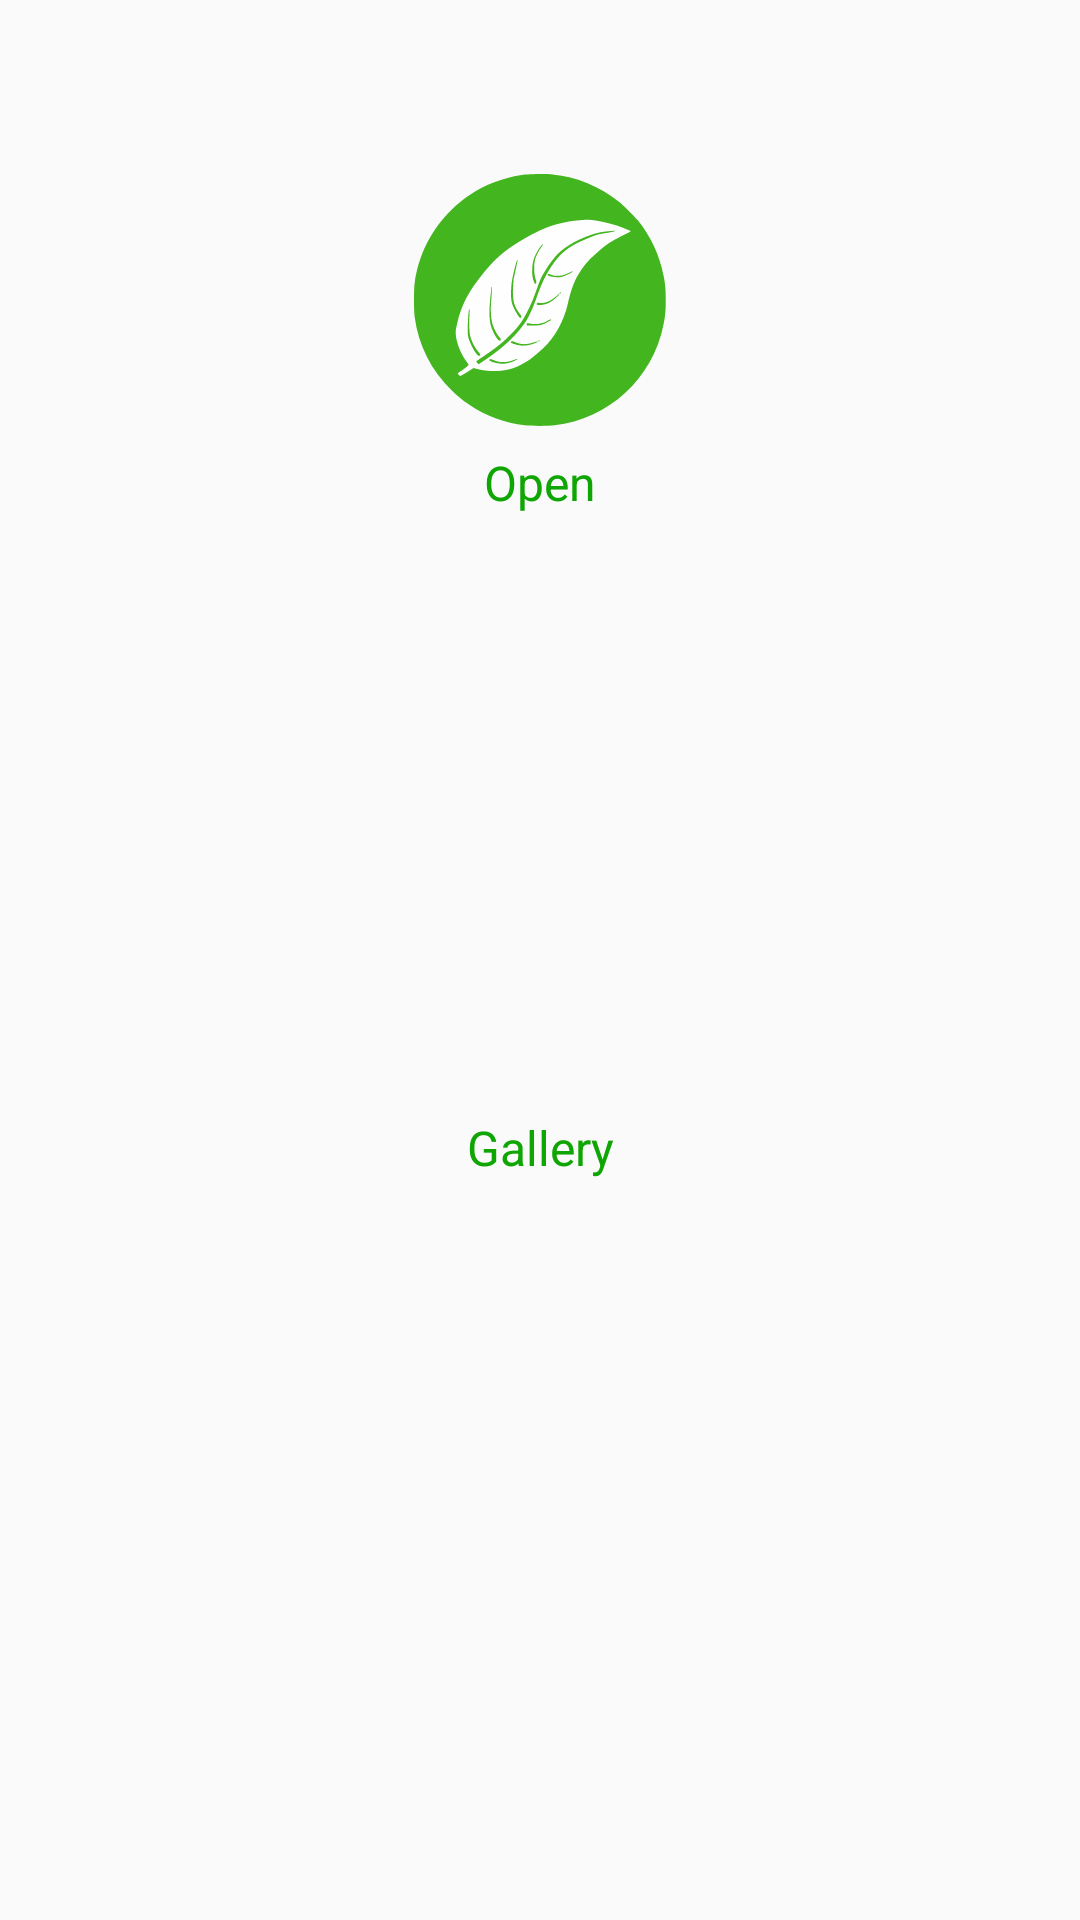

Screen size 1080x1920. Icon name, then its box in pixels as (x1, y1, x2, y2):
scan leaf: (414, 174, 666, 426)
